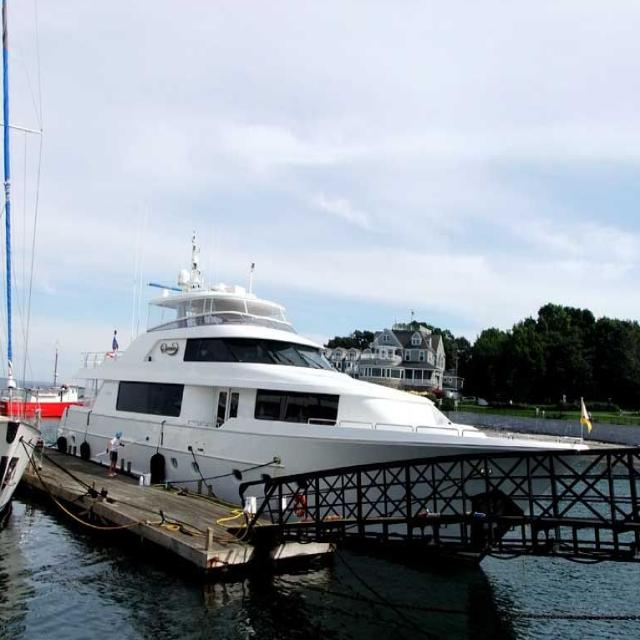houseboat: (64, 270, 596, 537)
